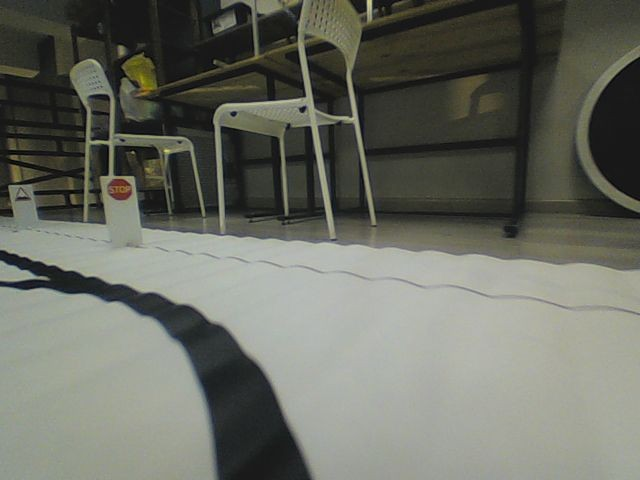Nerov: (13, 186, 31, 203)
Stop: (105, 177, 133, 202)
